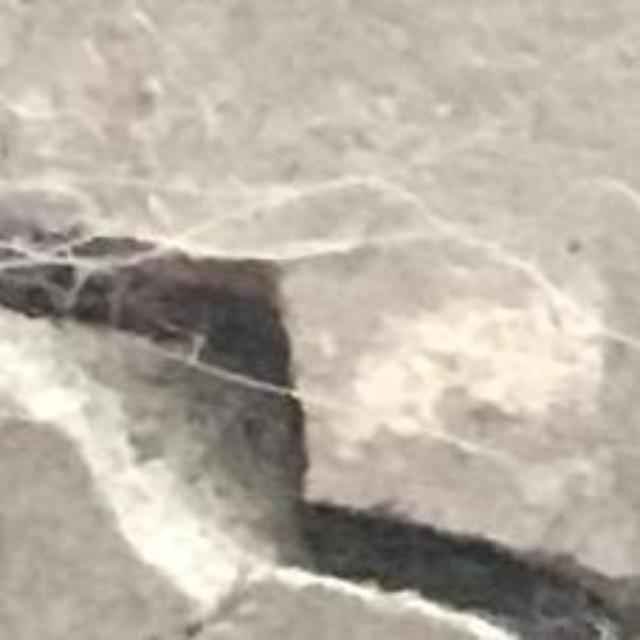crack: (0, 192, 639, 639)
